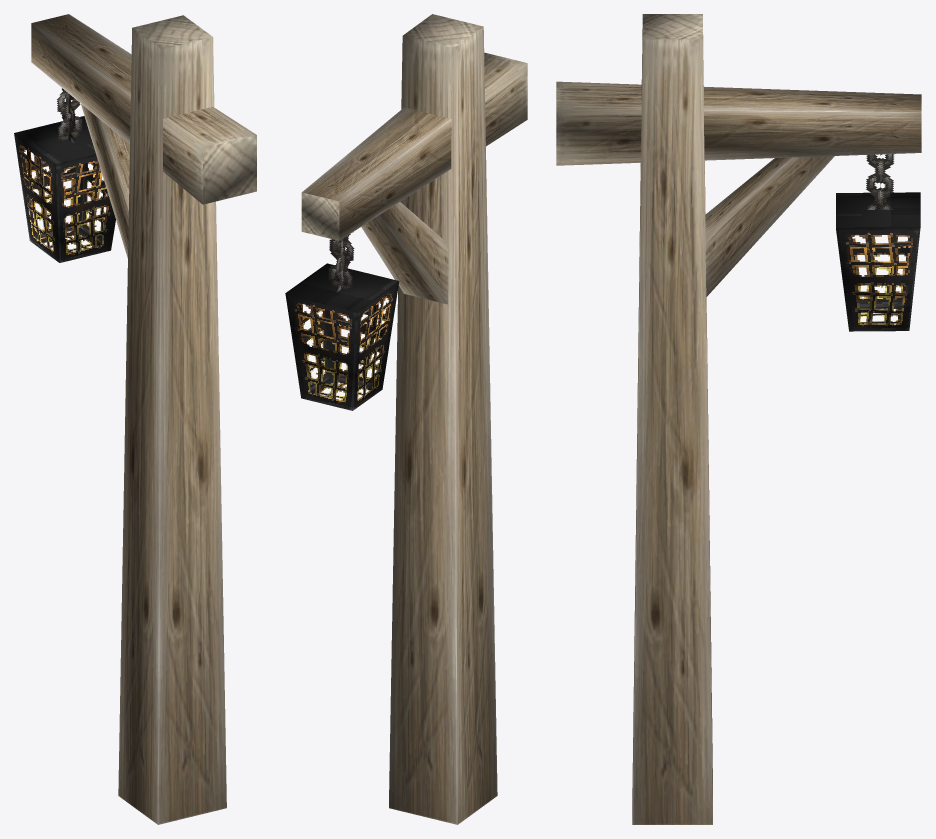
The model's file is duskwoodlamppostbroken.obj.
The picture shows the model from 3 angles, left to right: view 1: azimuth 30°, elevation 25°; view 2: azimuth 150°, elevation 25°; view 3: azimuth 270°, elevation 25°; orthographic projection.
Visible parts, largest first — view 1: Geoset0, Geoset2, Geoset1; view 2: Geoset0, Geoset2, Geoset1; view 3: Geoset0, Geoset2, Geoset1.
Boxes of the visible parts, x1=… form: Geoset0: x1=31, y1=14, x2=256, y2=824; Geoset2: x1=14, y1=116, x2=115, y2=262; Geoset1: x1=57, y1=88, x2=82, y2=143; Geoset0: x1=301, y1=14, x2=527, y2=824; Geoset2: x1=285, y1=263, x2=399, y2=410; Geoset1: x1=328, y1=232, x2=354, y2=292; Geoset0: x1=556, y1=14, x2=921, y2=824; Geoset2: x1=836, y1=192, x2=920, y2=331; Geoset1: x1=866, y1=154, x2=894, y2=209.
Bounding box in the file's own units: 0.402 × 4.1 × 1.73.
Materials: 3 (3 with a texture image).
